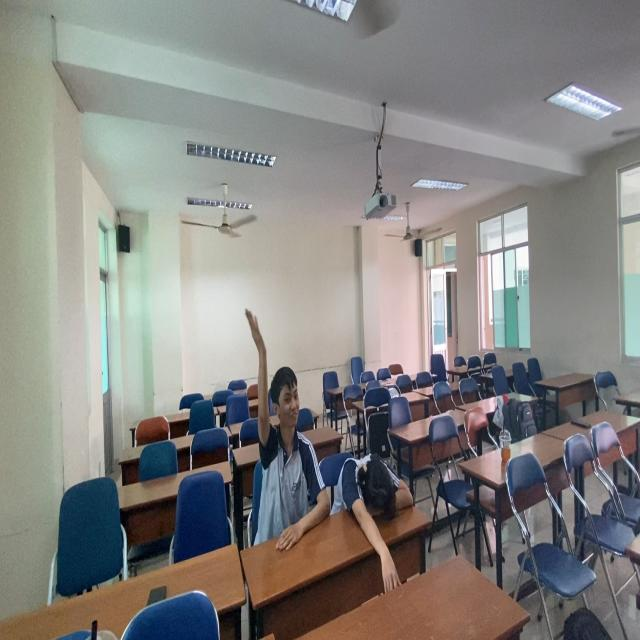raise_hand: (243, 304, 322, 553)
sleep: (336, 449, 422, 540)
